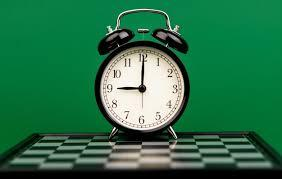alarm clock: (95, 5, 189, 139)
